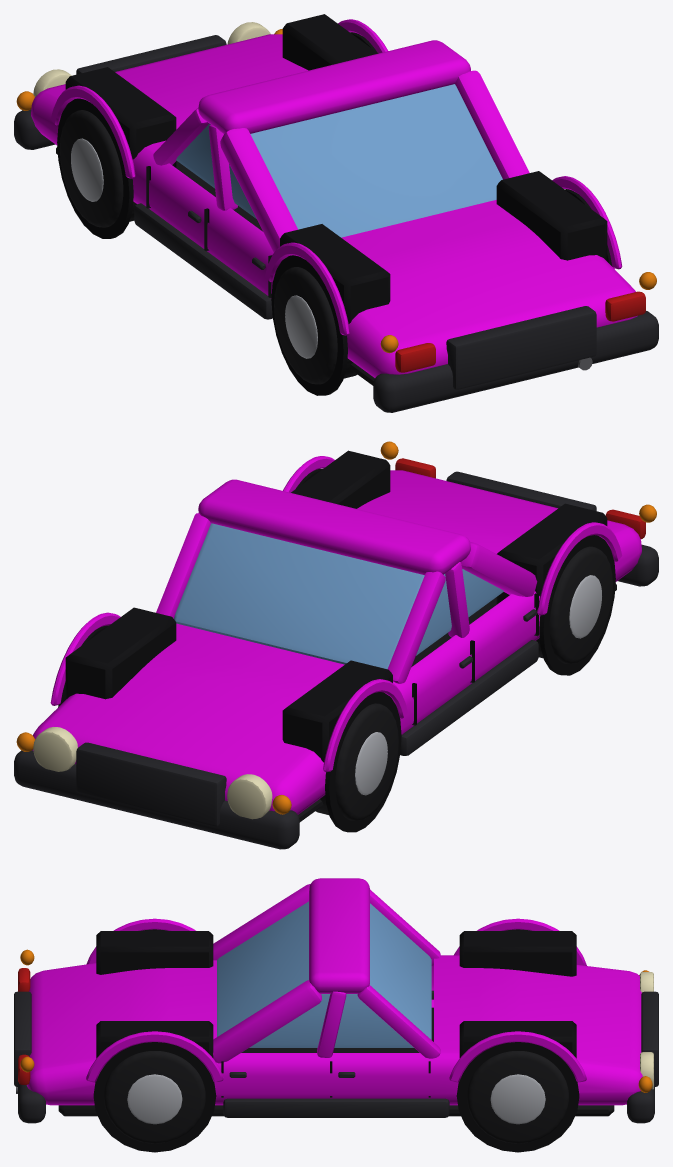
Rendered from ZestVector_Player.fbx.
3 views of the same model, one above another, from view 1: azimuth 30°, elevation 25°; view 2: azimuth 150°, elevation 25°; view 3: azimuth 270°, elevation 25° (orthographic). The views are drawn at different scales.
Visible parts, largest first — view 1: ZestVector_Player; view 2: ZestVector_Player; view 3: ZestVector_Player.
Boxes of the visible parts, x1,y1,x2,y2 form: ZestVector_Player: [14, 14, 658, 412]; ZestVector_Player: [14, 441, 658, 849]; ZestVector_Player: [14, 878, 658, 1152].
Bounding box in the file's own units: 1.97 × 1.32 × 4.53.
